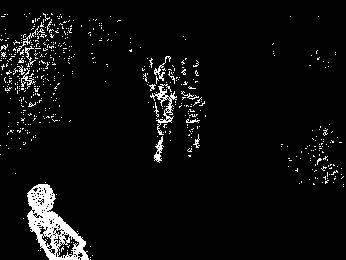person: (184, 81, 211, 164), (153, 81, 176, 163)
